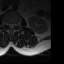CCS_stenosis: (10, 21, 12, 30)
LFS_normal: (14, 21, 16, 27)
LLS_normal: (12, 21, 14, 29)
RFS_normal: (6, 21, 8, 28)
RLS_normal: (8, 21, 10, 28)
